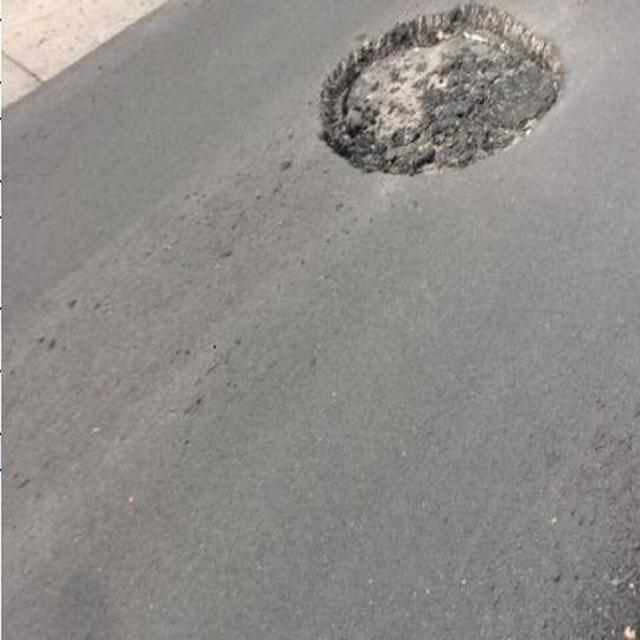Pothole: (307, 1, 599, 261)
